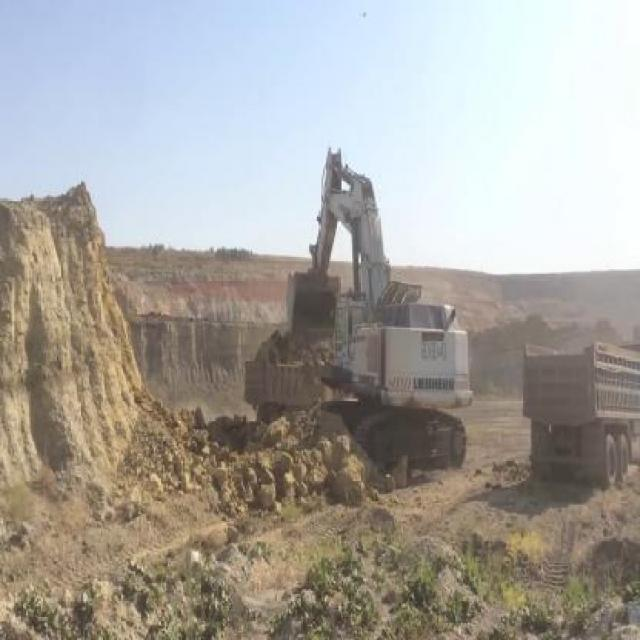Dump Truck: (517, 328, 638, 486), (242, 335, 346, 420)
Excavator: (286, 144, 472, 488)
